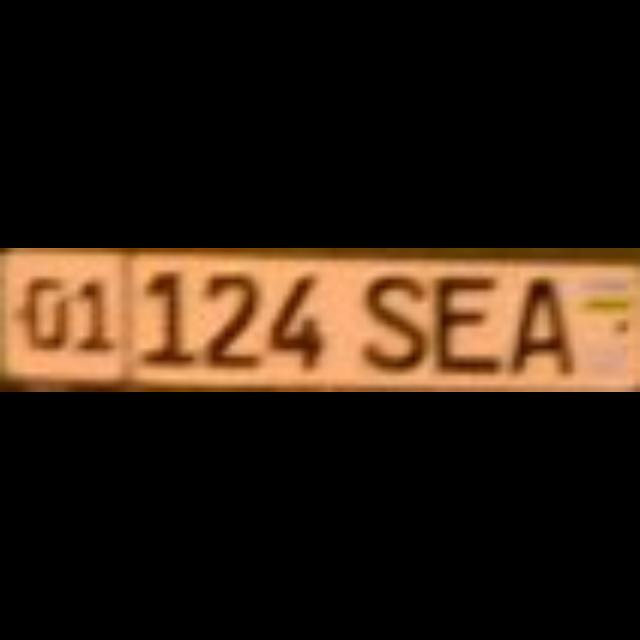0: (18, 272, 60, 344)
1: (133, 260, 187, 356), (67, 272, 103, 344)
2: (193, 260, 247, 356)
4: (260, 266, 320, 362)
A: (501, 266, 567, 368)
E: (423, 266, 489, 368)
S: (356, 266, 416, 362)
